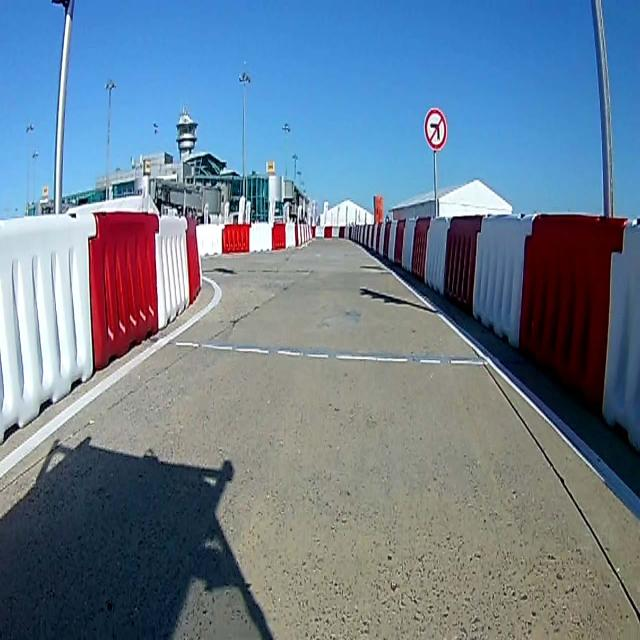soladonulmez: (424, 107, 448, 150)
